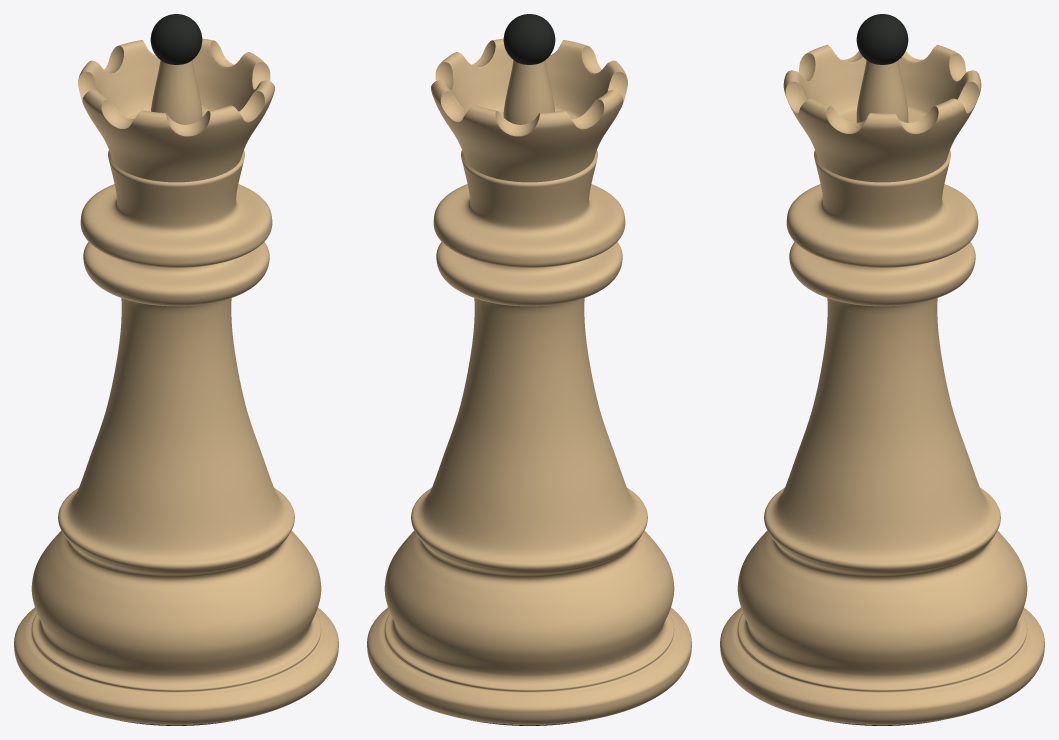
The model's file is queen.glb.
3 views of the same model, side by side, from view 1: azimuth 30°, elevation 25°; view 2: azimuth 150°, elevation 25°; view 3: azimuth 270°, elevation 25° (orthographic).
Parts seen in each view (by area): view 1: Piece_Queen; view 2: Piece_Queen; view 3: Piece_Queen.
Part boxes in pixels (x1=…): Piece_Queen: x1=14, y1=14, x2=338, y2=725; Piece_Queen: x1=367, y1=14, x2=691, y2=725; Piece_Queen: x1=720, y1=14, x2=1044, y2=725.
Bounding box in the file's own units: 0.0384 × 0.085 × 0.0384.
